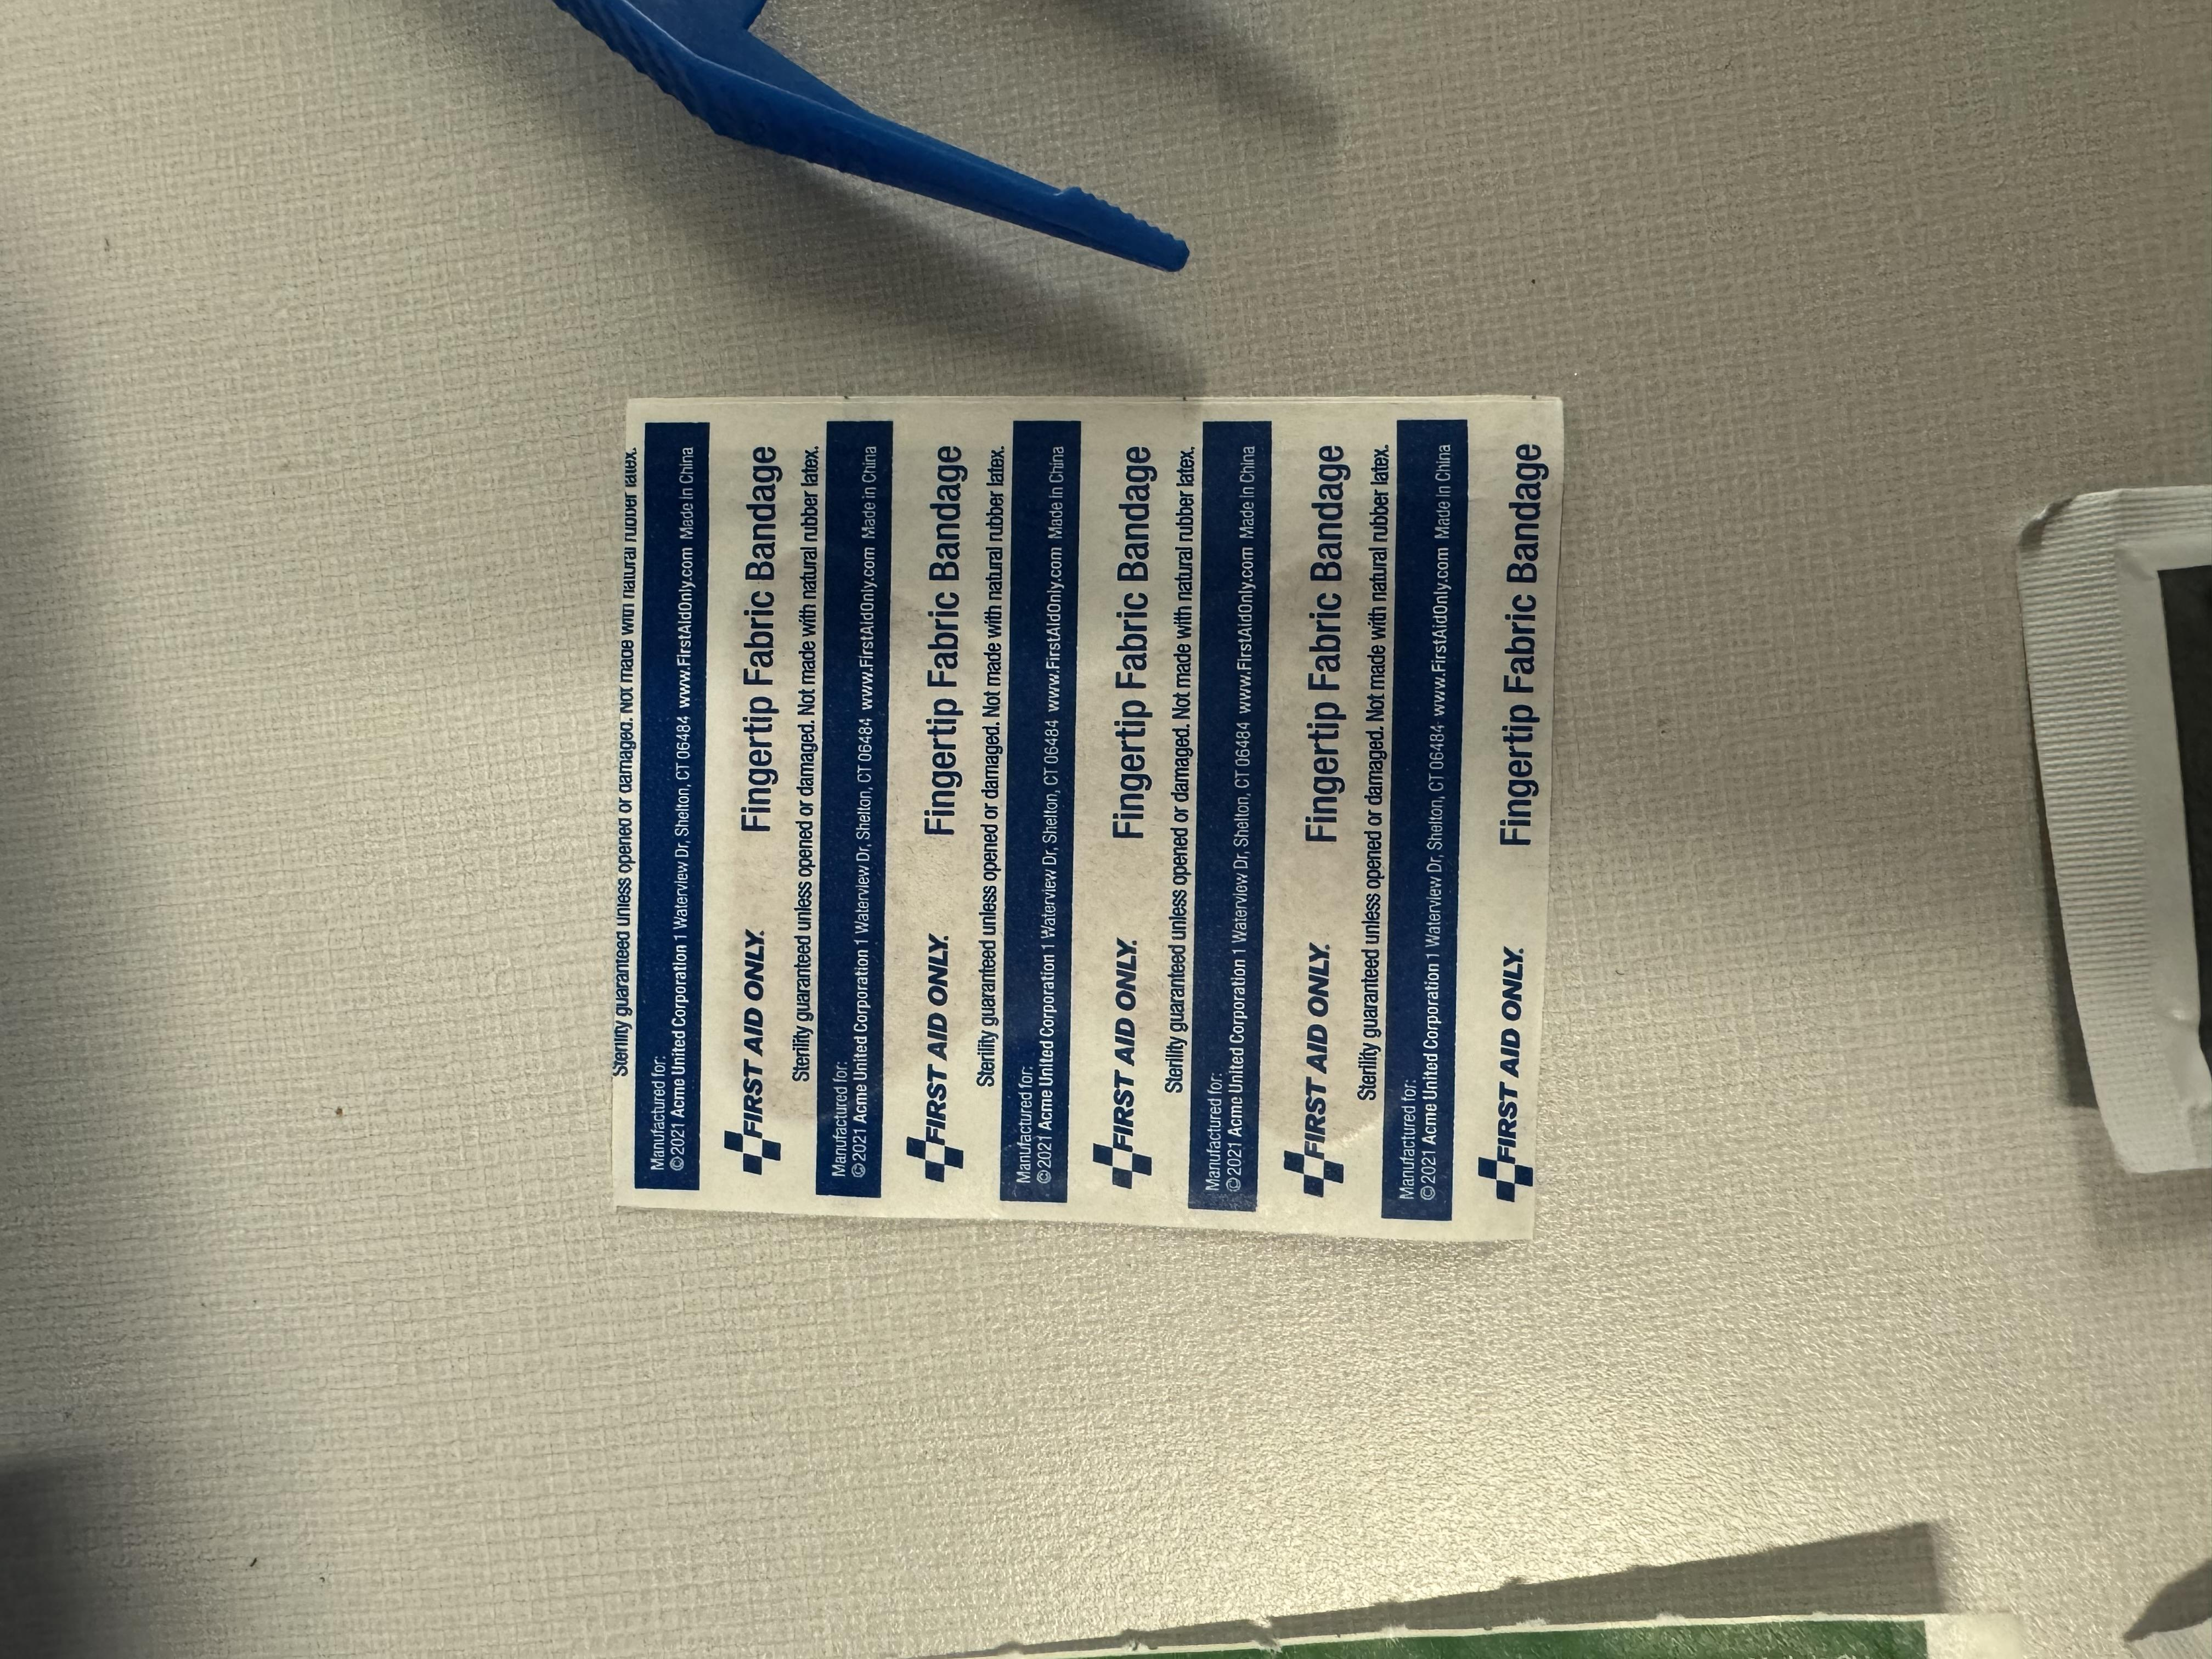bandage: (402, 340, 1782, 1255)
tweezers: (1839, 310, 2212, 925)
